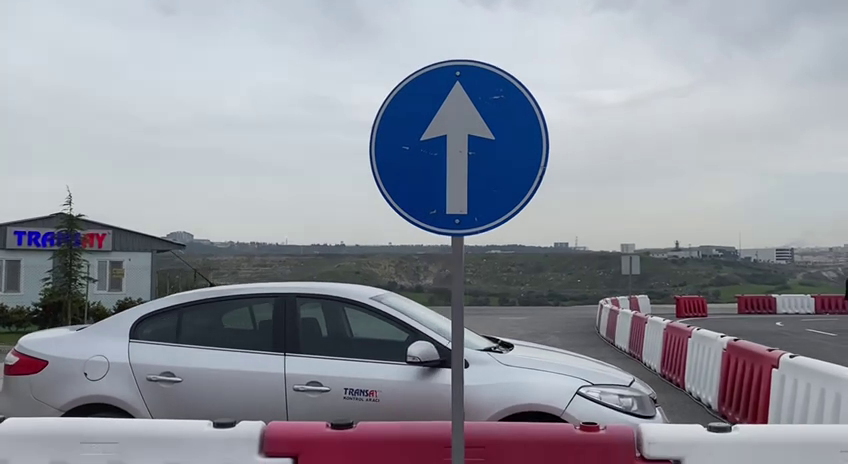forward: (364, 54, 554, 241)
